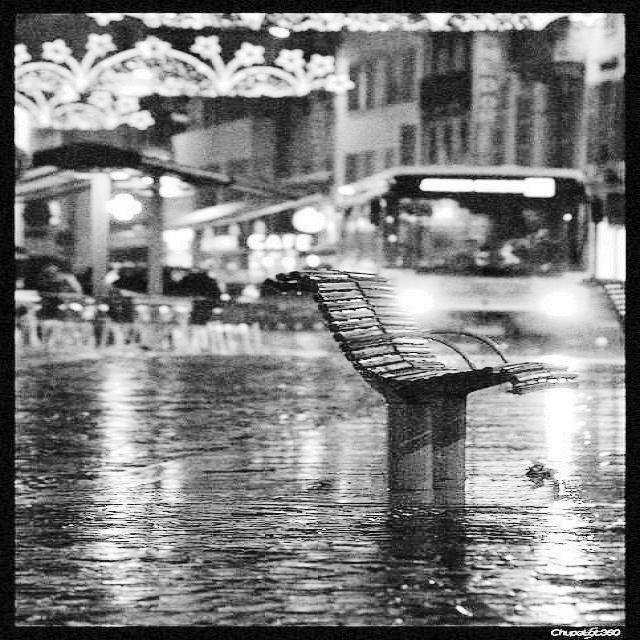Bus: (117, 154, 625, 343)
